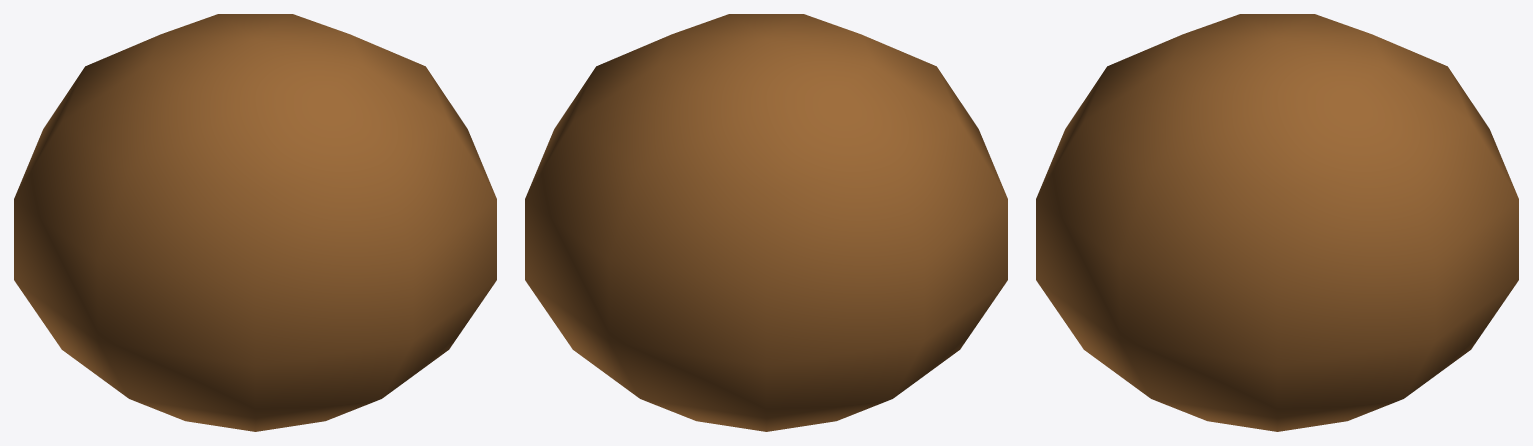
The model's file is pebblin_stage1.obj.
3 views of the same model, side by side, from view 1: azimuth 30°, elevation 25°; view 2: azimuth 150°, elevation 25°; view 3: azimuth 270°, elevation 25° (orthographic).
Size of the model in its own units: 1.23 by 1.04 by 1.25.
